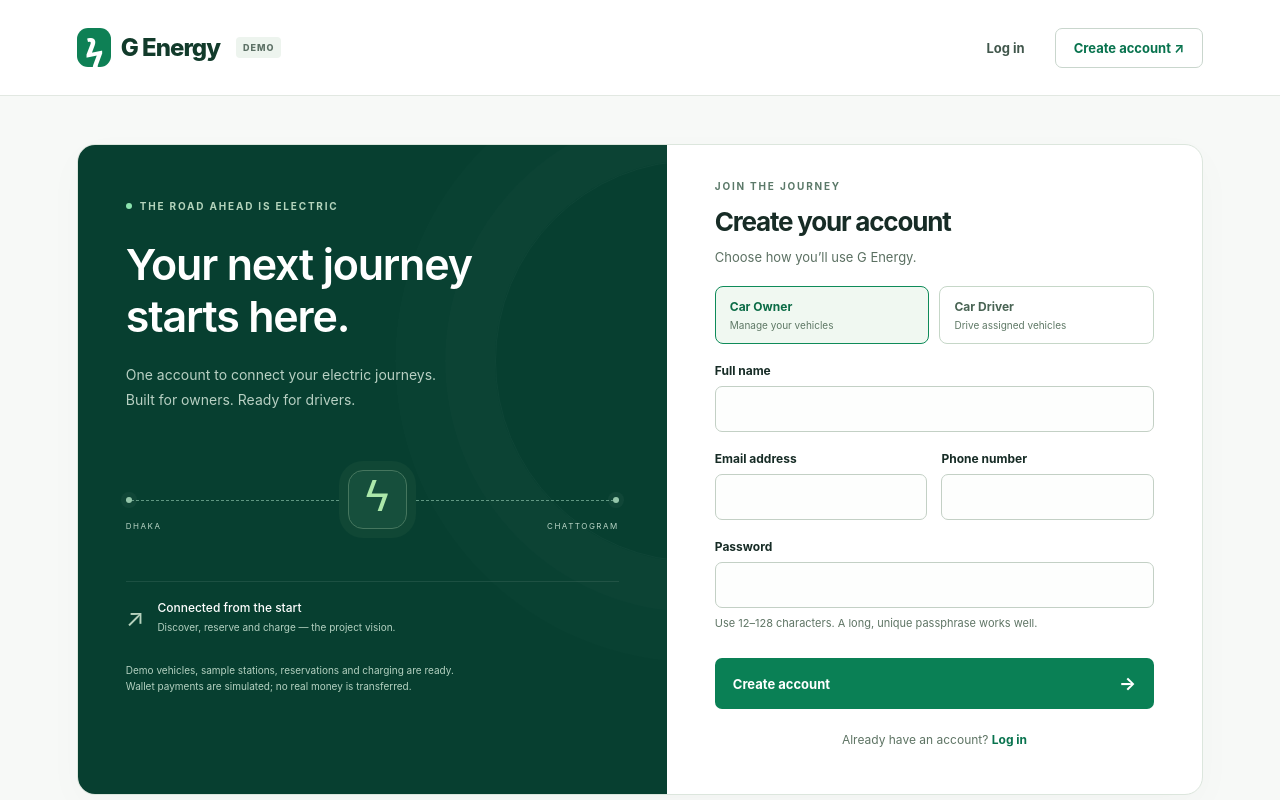
Scenario: authentication screens › shows a queued welcome email without claiming it was delivered
In the field labelled "Full name": (934, 409) [715,386,1154,432], type "Demo Owner"
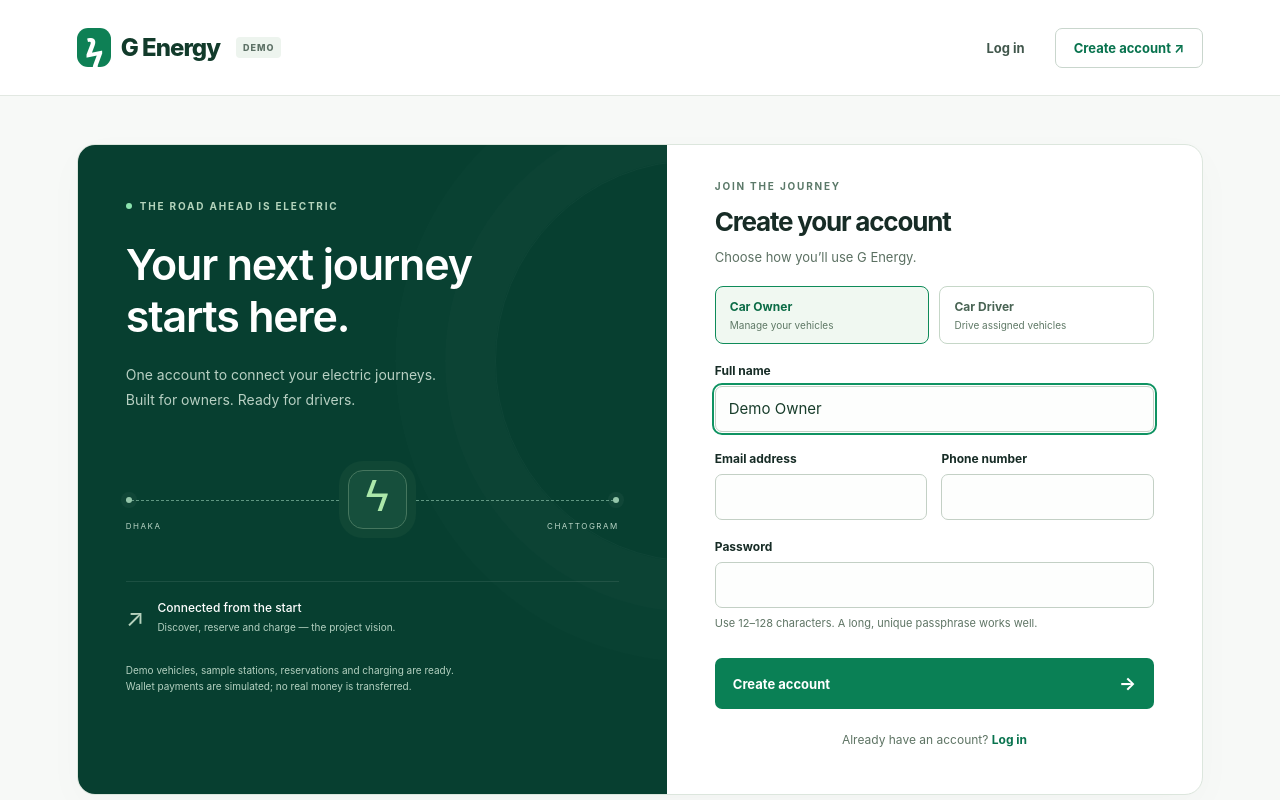
In the field labelled "Email address": (821, 497) [715,474,928,520], type "owner@example.test"
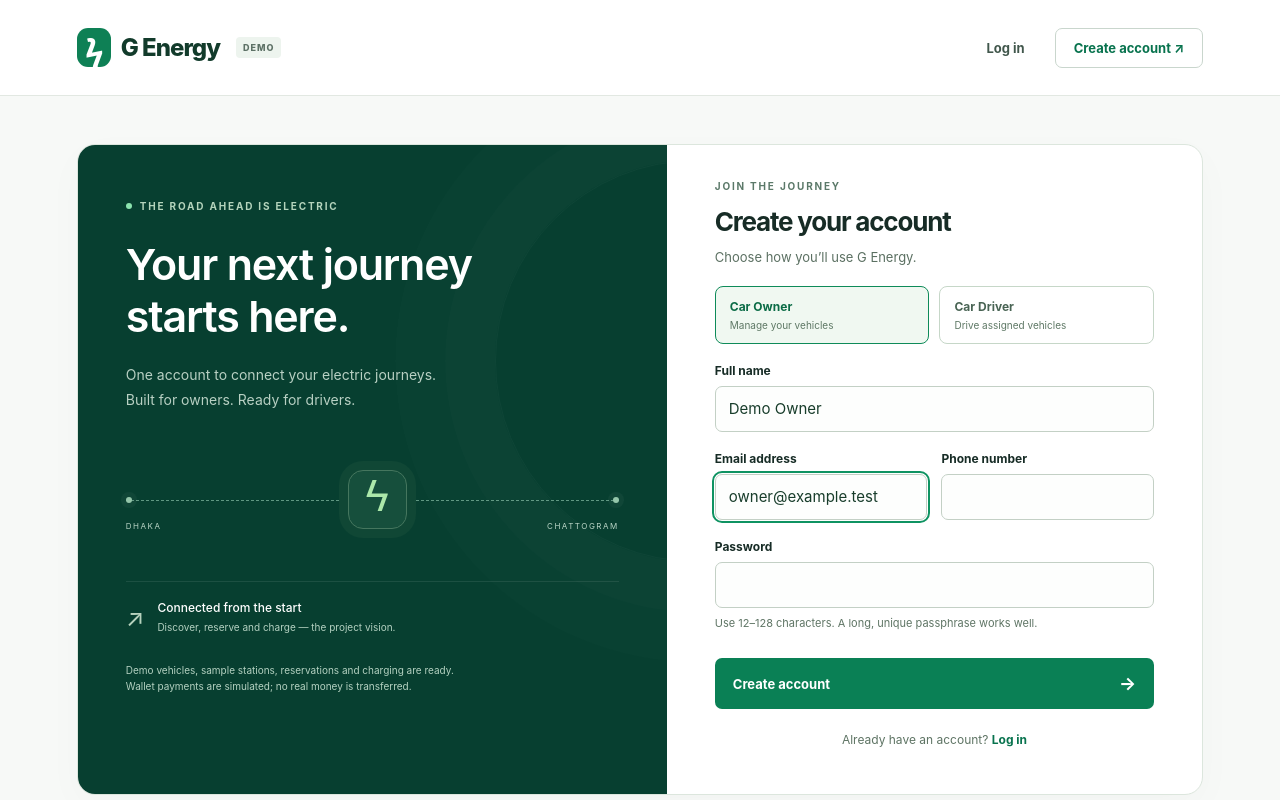
In the field labelled "Phone number": (1048, 497) [942,474,1154,520], type "01700000000"
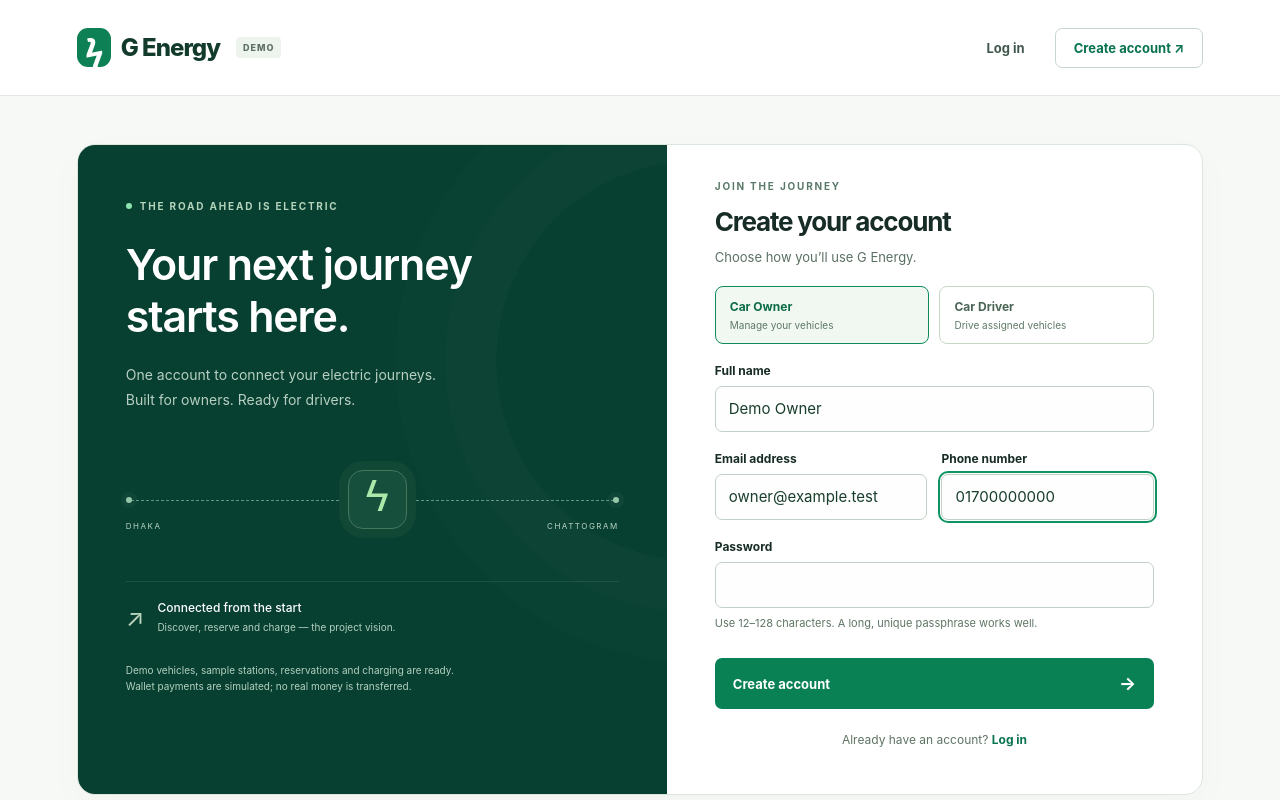
In the password field labelled "Password": (934, 585) [715,562,1154,608], type "Test-only-long-passphrase"
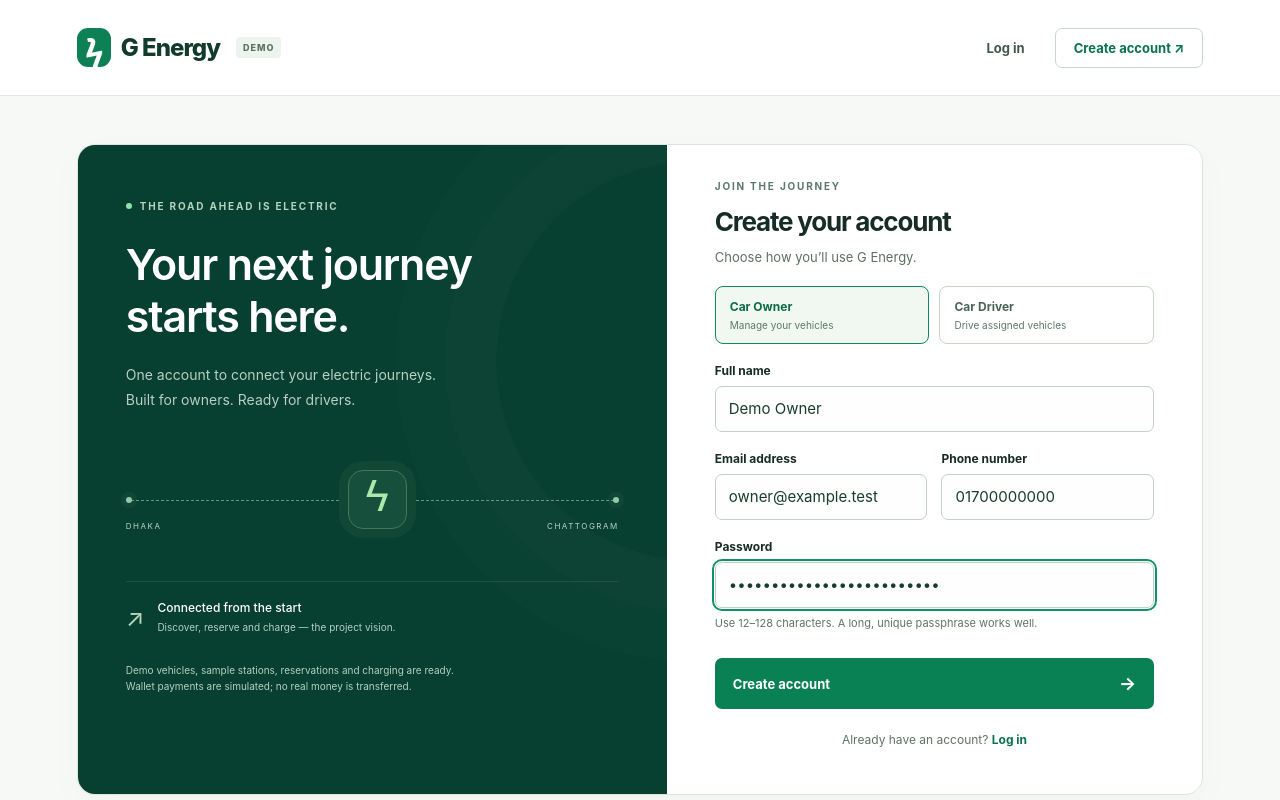
Click the button "Create account →": (781, 684) [715,658,1154,709]
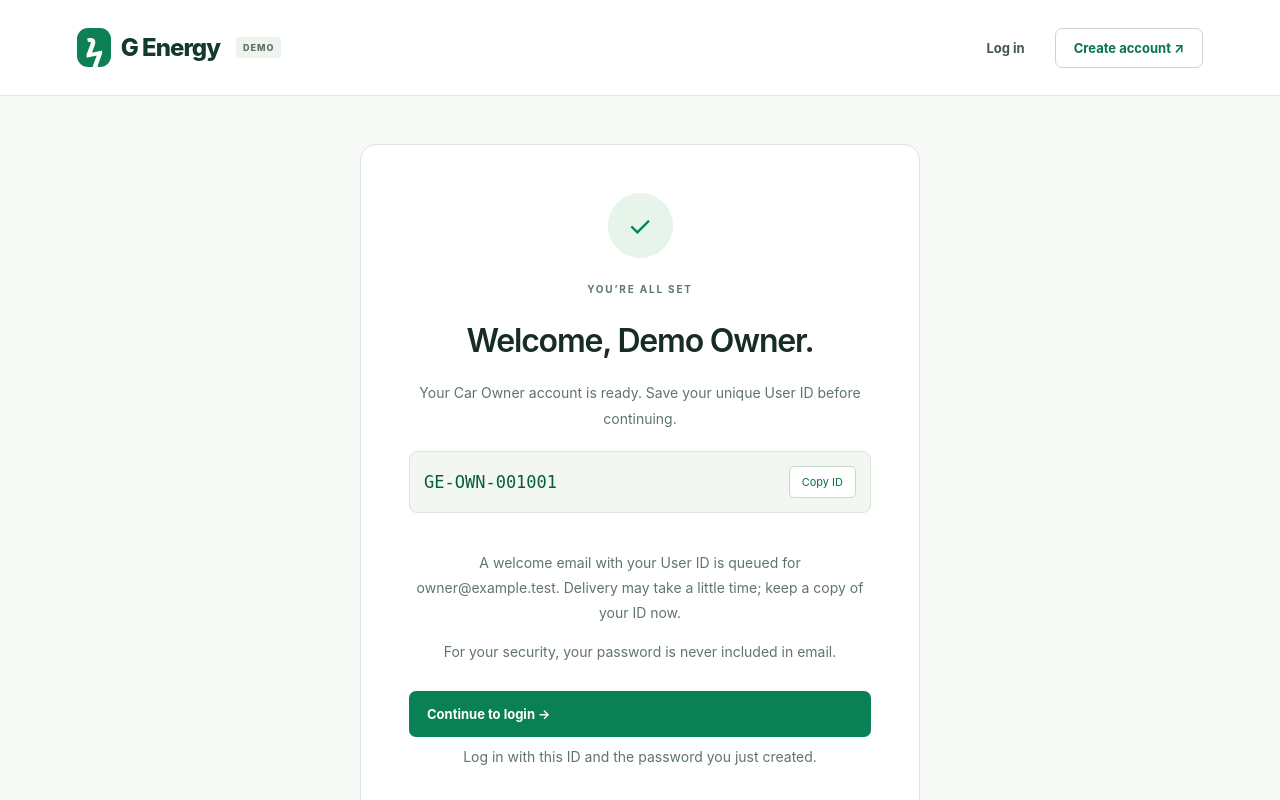
Now the text "GE-OWN-001001" is shown, box [424,472,557,492]
